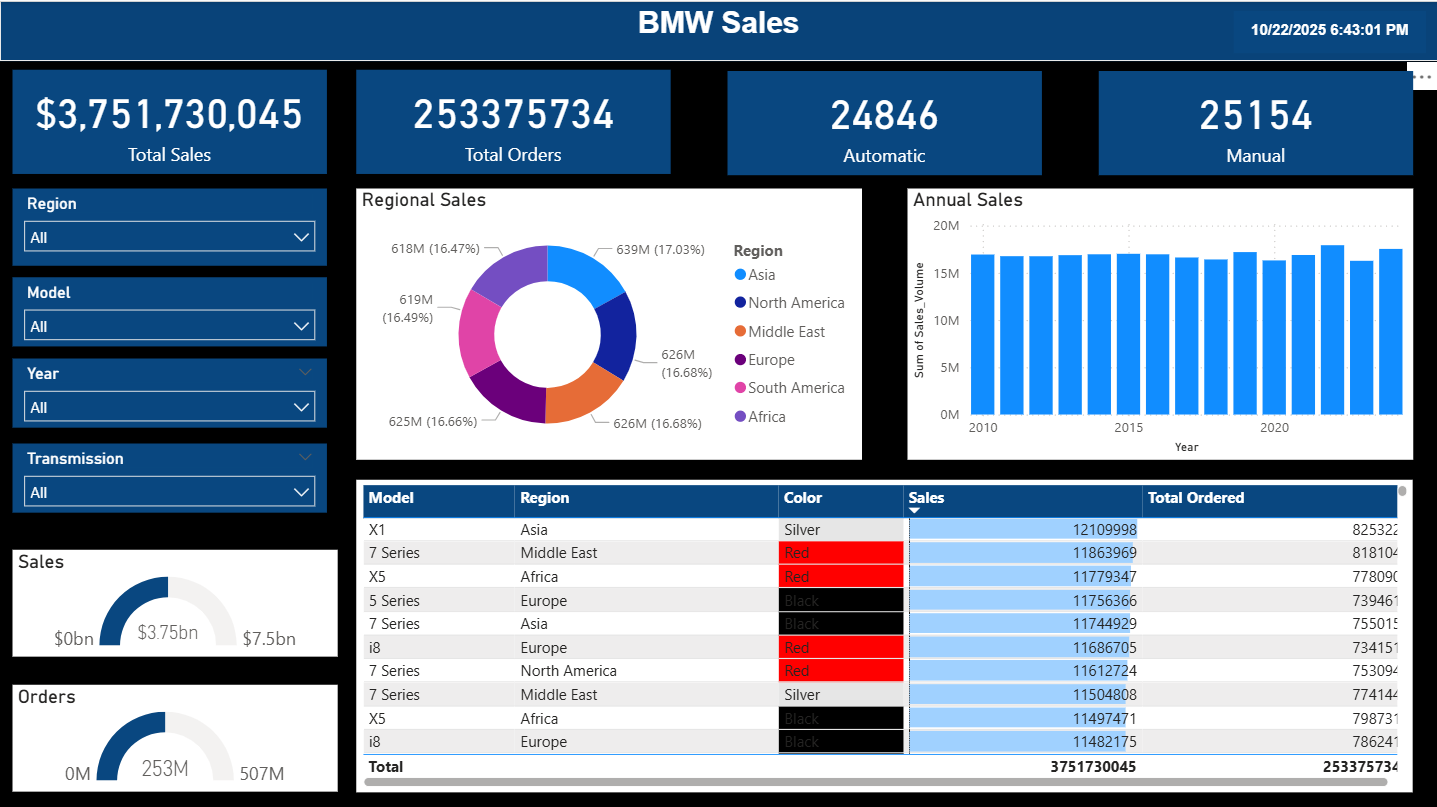

The page's visual inventory and layout, read from the dashboard file:
{"tool":"powerbi","page":{"name":"bmw sales","canvas":[1280,720],"ordinal":0},"visuals":[{"type":"textbox","box":[0,0,1280.3,53.5],"z":0},{"type":"donutChart","title":"Regional Sales","fields":{"Category":["bmwsales.Region"],"Y":["Sum(bmwsales.Price_USD)"]},"box":[317.3,166.5,450,241.3],"z":1000},{"type":"clusteredColumnChart","title":"Annual Sales","fields":{"Category":["bmwsales.Year"],"Y":["Sum(bmwsales.Sales_Volume)"]},"box":[808.3,166.5,450,241.3],"z":2000},{"type":"card","fields":{"Values":["bmwsales.Total Sales"]},"box":[10.9,61.5,279.9,92.9],"z":3000},{"type":"card","fields":{"Values":["bmwsales.Current Datetime"]},"box":[1099.1,8.4,171.3,37.4],"z":4000},{"type":"tableEx","fields":{"Values":["bmwsales.Model","bmwsales.Region","bmwsales.Color","bmwsales.Sales","Sum(bmwsales.Sales_Volume)"]},"box":[317.3,425.9,941,278.7],"z":5000},{"type":"slicer","fields":{"Values":["bmwsales.Region"]},"box":[10.9,166.5,279.9,68.8],"z":6000},{"type":"slicer","fields":{"Values":["bmwsales.Model"]},"box":[10.9,246.1,279.9,61.5],"z":7000},{"type":"slicer","fields":{"Values":["bmwsales.Year"]},"box":[10.9,318.5,279.9,61.5],"z":8000},{"type":"gauge","title":"Sales","fields":{"Y":["bmwsales.Total Sales"],"TargetValue":["bmwsales.targetedvalue"]},"box":[10.9,488.6,289.5,95.3],"z":8001},{"type":"card","title":"Total Ordered","fields":{"Values":["bmwsales.Total Ordered"]},"box":[317.3,61.5,279.9,92.9],"z":8002},{"type":"card","title":"Transmission","fields":{"Values":["bmwsales.Auto Sales"]},"box":[647.9,62.7,279.9,92.9],"z":8003},{"type":"card","title":"Total Ordered","fields":{"Values":["bmwsales.Manual Sales"]},"box":[978.4,62.7,279.9,92.9],"z":8004},{"type":"gauge","title":"Orders","fields":{"TargetValue":["bmwsales.targetedvalue"],"Y":["bmwsales.Total Ordered"]},"box":[10.9,609.3,289.5,95.3],"z":8005},{"type":"slicer","fields":{"Values":["bmwsales.Transmission"]},"box":[10.9,394.5,279.9,61.5],"z":8006}]}

Visuals, with their boxes in screenshot pixels (x1, y1, x2, y2), scaled from the page's 1280x720 canvas onto the 1437x807 screenshot:
textbox: box(0, 0, 1436, 60)
"Regional Sales" donutChart: box(356, 187, 861, 457)
"Annual Sales" clusteredColumnChart: box(907, 187, 1413, 457)
card - bmwsales.Total Sales: box(12, 69, 326, 173)
card - bmwsales.Current Datetime: box(1234, 9, 1426, 51)
tableEx - bmwsales.Model x bmwsales.Region: box(356, 477, 1413, 790)
slicer - bmwsales.Region: box(12, 187, 326, 264)
slicer - bmwsales.Model: box(12, 276, 326, 345)
slicer - bmwsales.Year: box(12, 357, 326, 426)
"Sales" gauge: box(12, 548, 337, 654)
"Total Ordered" card: box(356, 69, 670, 173)
"Transmission" card: box(727, 70, 1042, 174)
"Total Ordered" card: box(1098, 70, 1413, 174)
"Orders" gauge: box(12, 683, 337, 790)
slicer - bmwsales.Transmission: box(12, 442, 326, 511)
